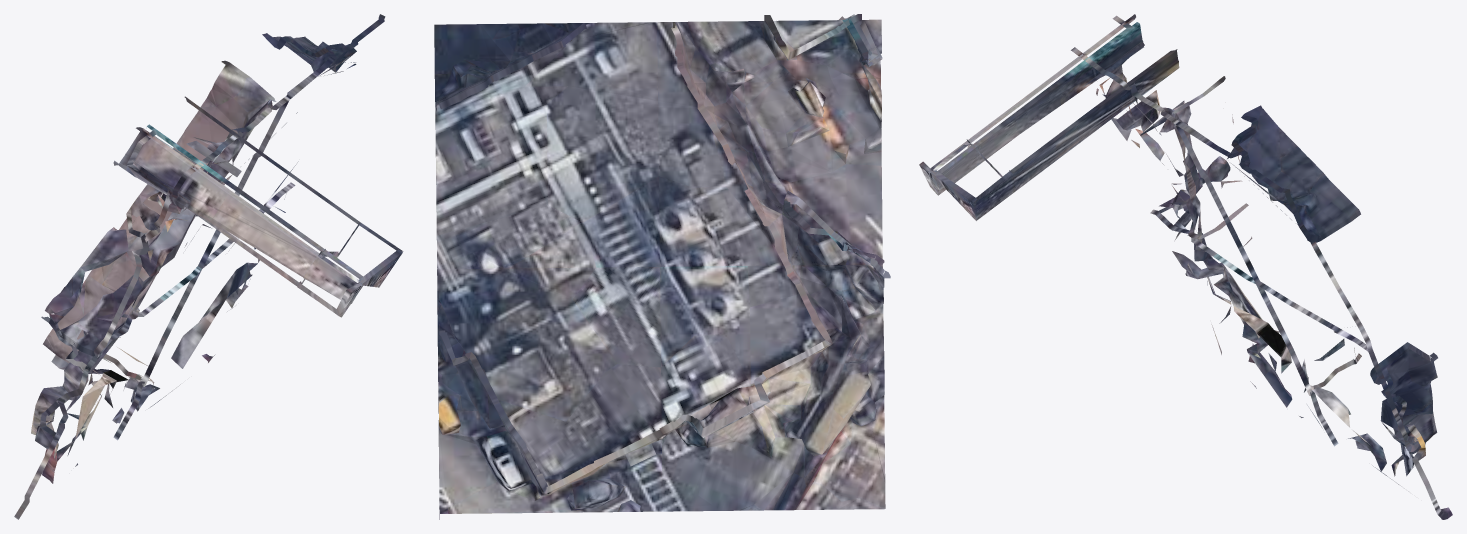
3 renders of one model, left to right at view 1: azimuth 30°, elevation 25°; view 2: azimuth 150°, elevation 25°; view 3: azimuth 270°, elevation 25°, orthographic. The views are drawn at different scales.
Size of the model in its own units: 37.96 by 37.54 by 45.84.
Materials: 2 (2 with a texture image).
